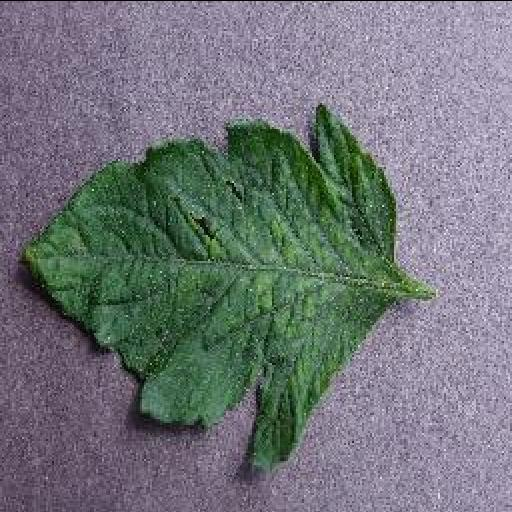disease_tomato: (17, 102, 399, 470)
